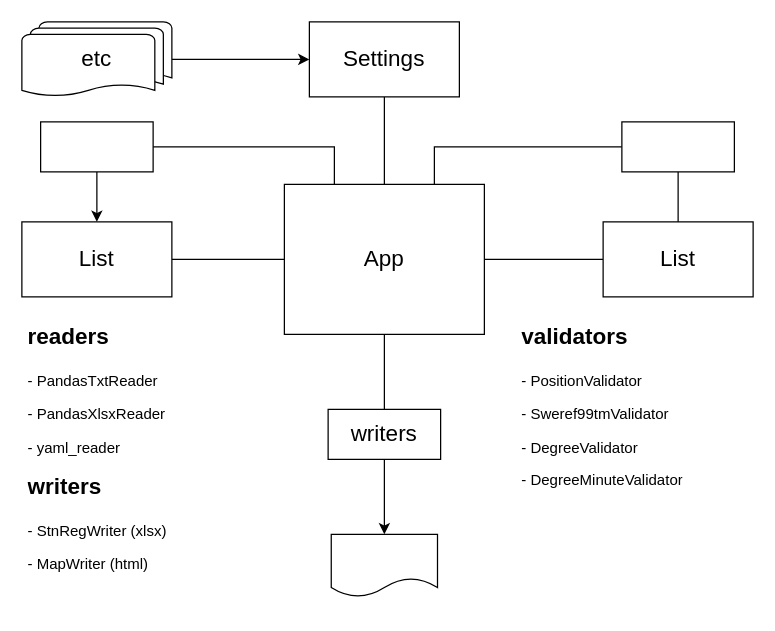
This 775x631 diagram has some shape labels left out. Here are the shapes that lost their labels. From the top down, the box of each, then its label:
(39, 121, 153, 172): readers
(621, 121, 734, 172): validators
(330, 533, 438, 597): document
